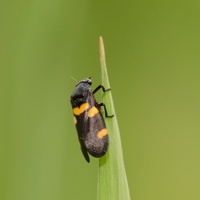insect: (71, 78, 107, 161)
